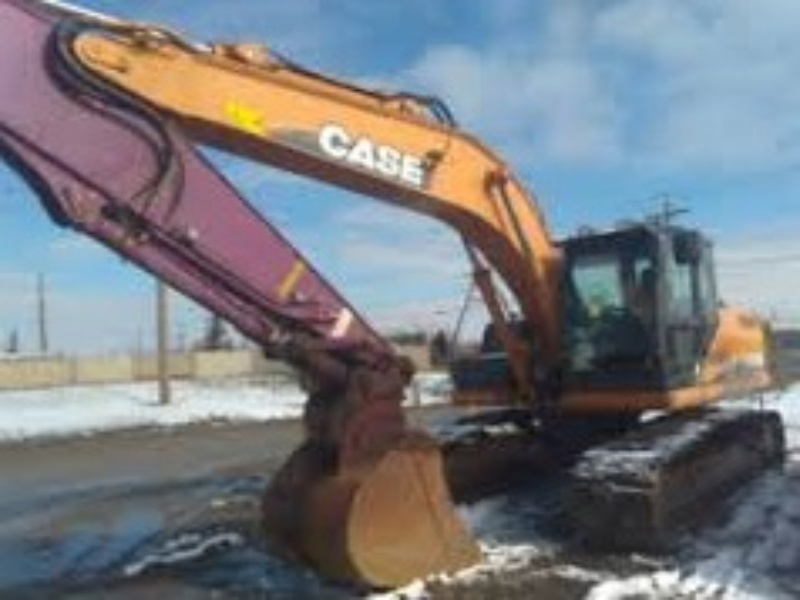wajueji: (372, 121, 800, 551)
